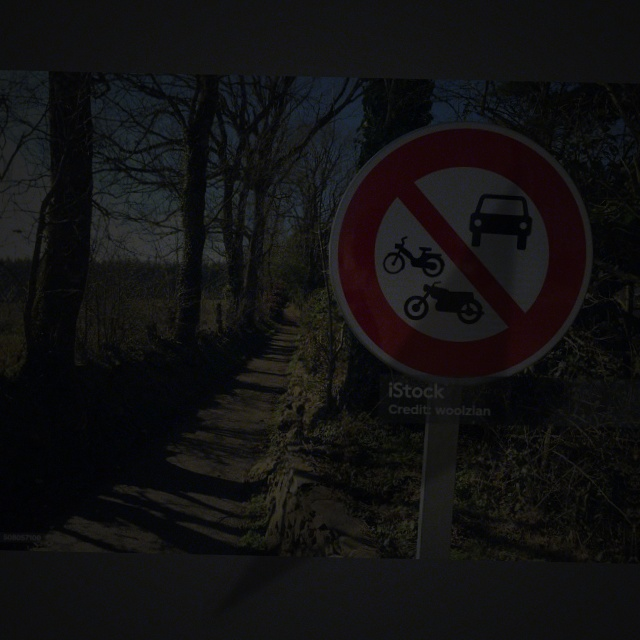All_Motor_Vehicles_Prohibited: (329, 119, 596, 379)
